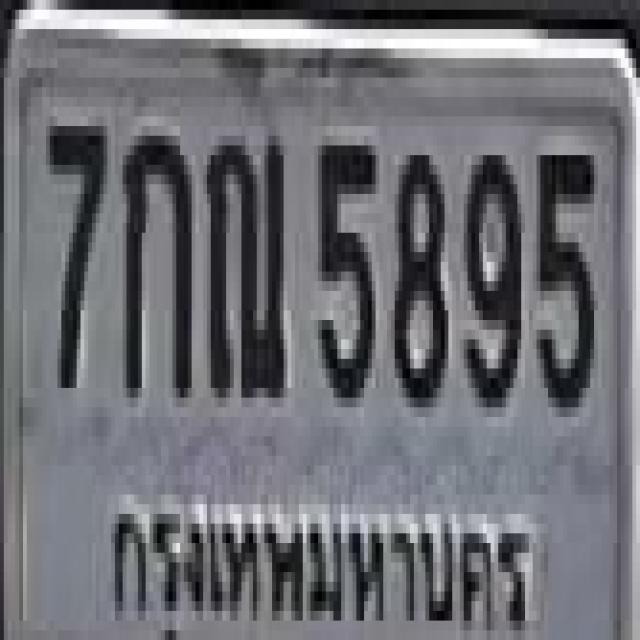5: (314, 136, 372, 398), (533, 146, 590, 398)
7: (46, 116, 103, 378)
8: (391, 146, 441, 398)
9: (460, 146, 517, 398)
A01: (119, 126, 188, 388)
A19: (203, 121, 284, 393)
BKK: (91, 474, 539, 640)
